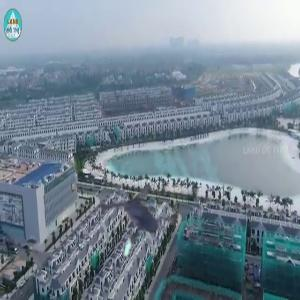drone: (70, 169, 195, 294)
